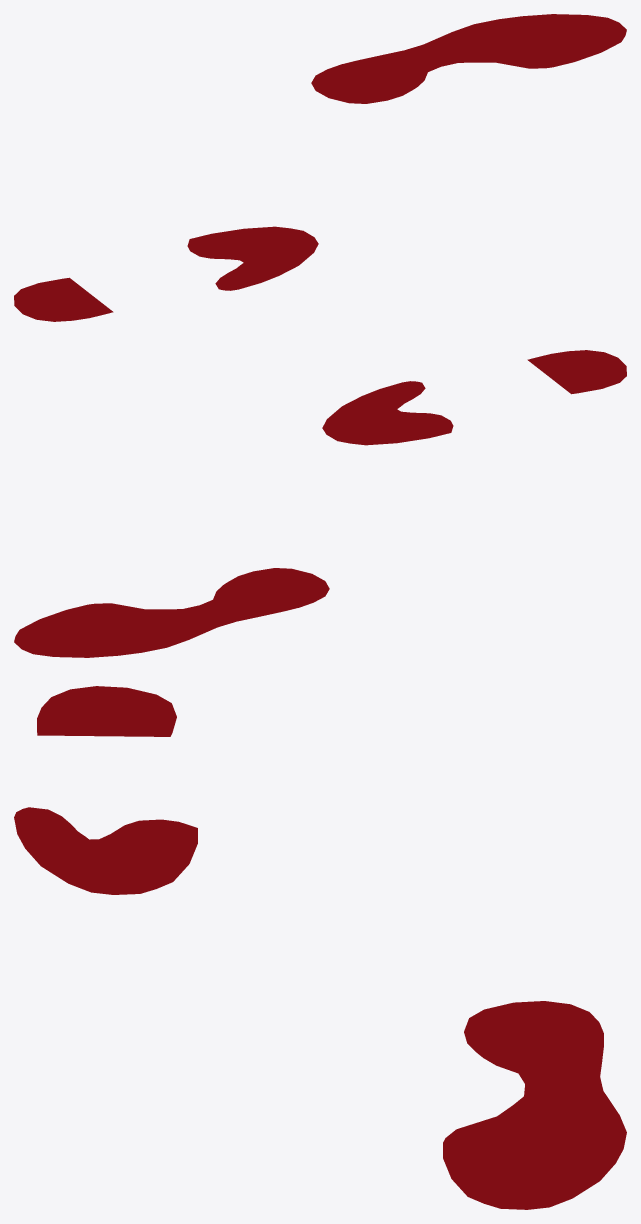
File: steps.fbx
3 renders of one model, top to bottom at view 1: azimuth 30°, elevation 25°; view 2: azimuth 210°, elevation 25°; view 3: azimuth 270°, elevation 25°, orthographic. The views are drawn at different scales.
Parts seen in each view (by area): view 1: Plane.001, Plane; view 2: Plane.001, Plane; view 3: Plane.001, Plane.
Part boxes in pixels (bbox=[...]): Plane.001: bbox=[311, 14, 626, 103]; Plane: bbox=[14, 226, 318, 321]; Plane.001: bbox=[14, 568, 329, 657]; Plane: bbox=[322, 350, 626, 445]; Plane.001: bbox=[443, 1001, 626, 1209]; Plane: bbox=[14, 686, 197, 894].
Size of the model in its own units: 416 by 1.01e-05 by 206.
